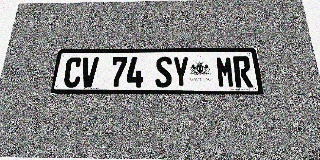4: (126, 57, 144, 88)
7: (109, 57, 127, 88)
C: (63, 57, 83, 88)
M: (216, 56, 235, 88)
R: (233, 56, 253, 88)
S: (155, 57, 172, 88)
V: (80, 57, 99, 88)
Y: (172, 56, 190, 88)
